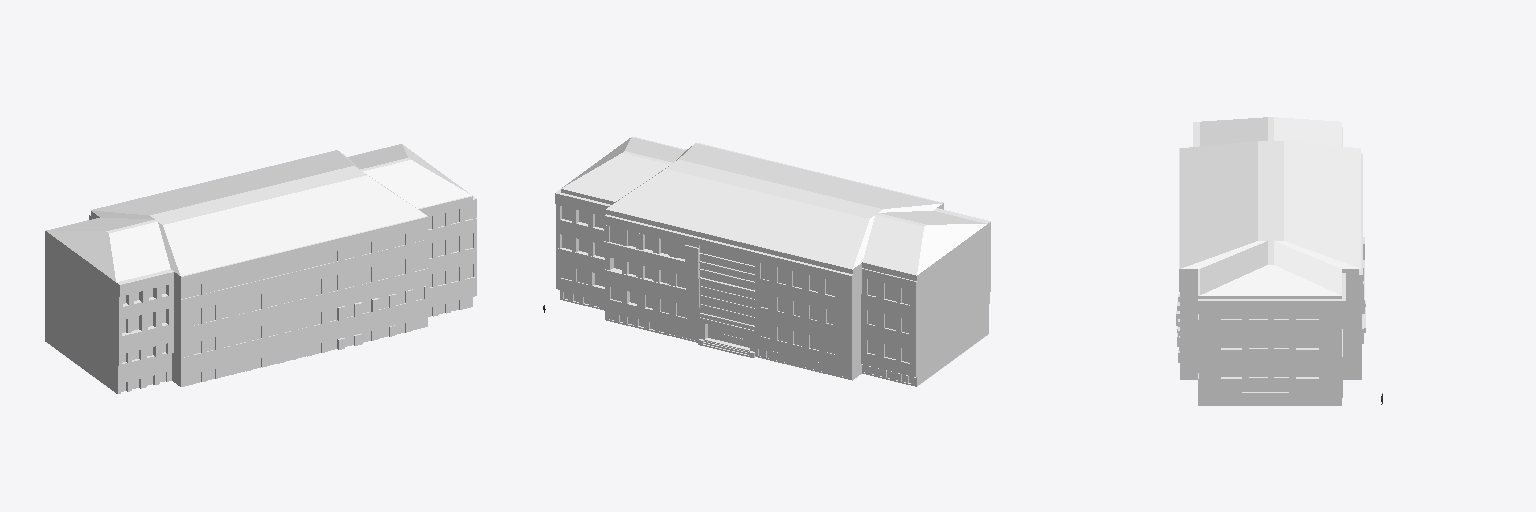
3 renders of one model, left to right at view 1: azimuth 30°, elevation 25°; view 2: azimuth 150°, elevation 25°; view 3: azimuth 270°, elevation 25°, orthographic.
Visible parts, largest first — view 1: SketchUp_ID204.001; view 2: SketchUp_ID204.001; view 3: SketchUp_ID204.001.
Boxes of the visible parts, x1,y1,x2,y2 form: SketchUp_ID204.001: [45, 144, 476, 393]; SketchUp_ID204.001: [555, 137, 990, 386]; SketchUp_ID204.001: [1176, 117, 1365, 405].
Size of the model in its own units: 14.63 by 4.97 by 7.27.